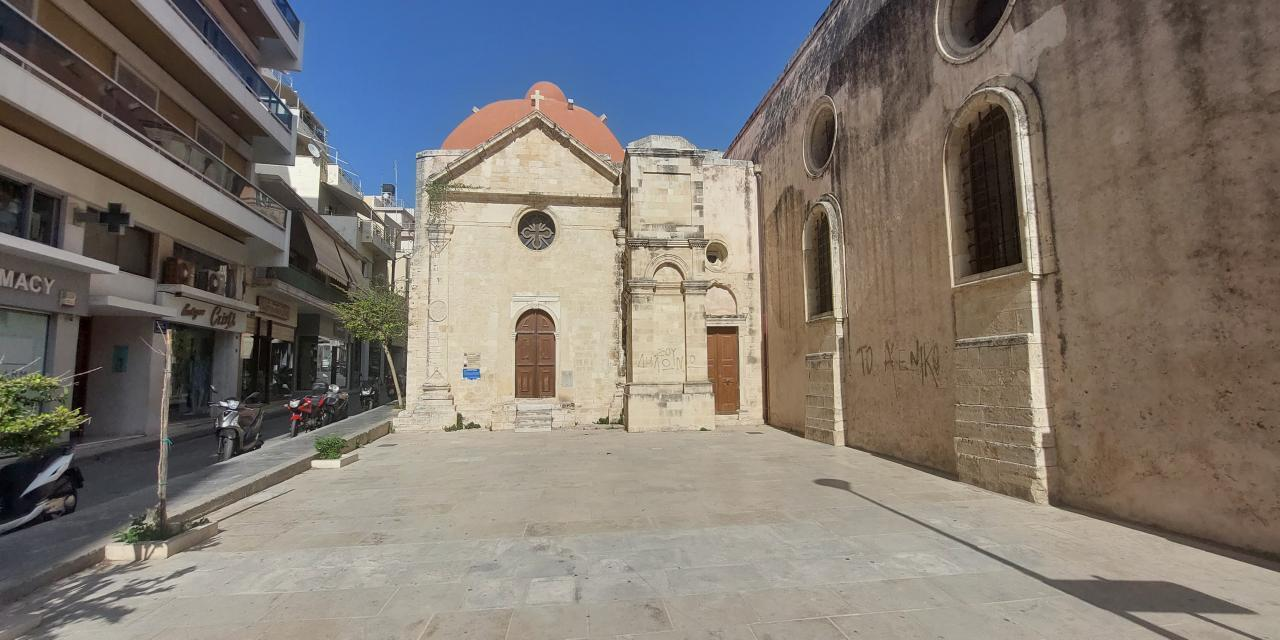Agia Aikaterini: (409, 3, 1280, 552)
